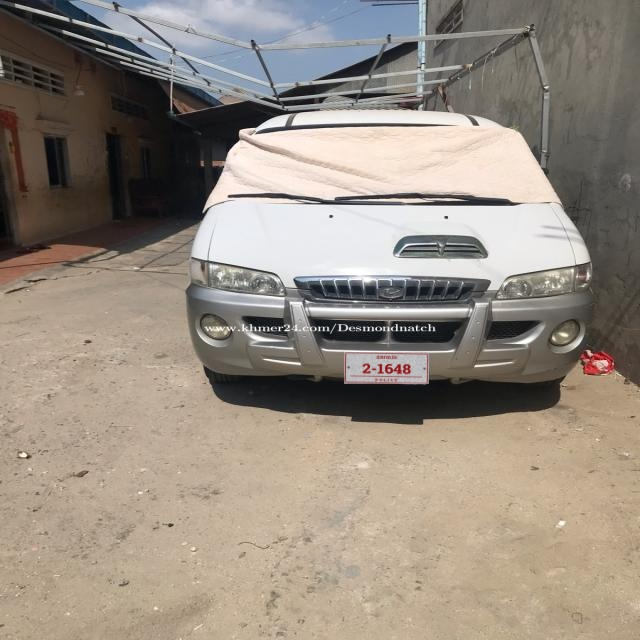Plate Number: (345, 352, 429, 385)
